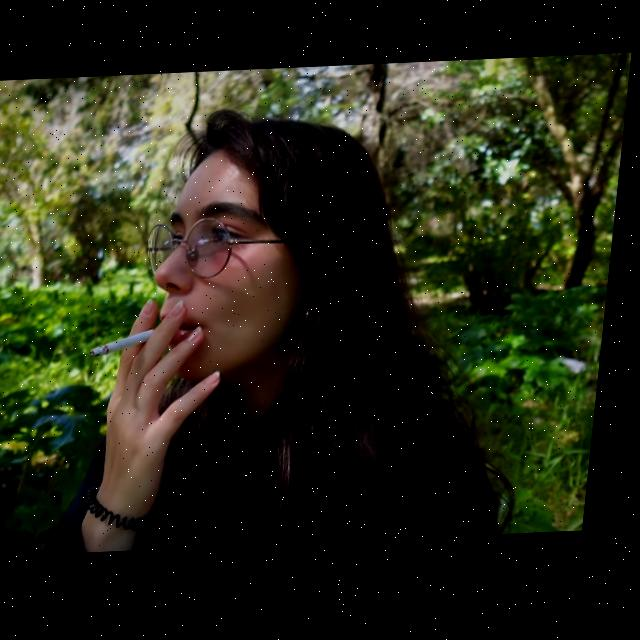cigarette: (97, 331, 161, 358)
